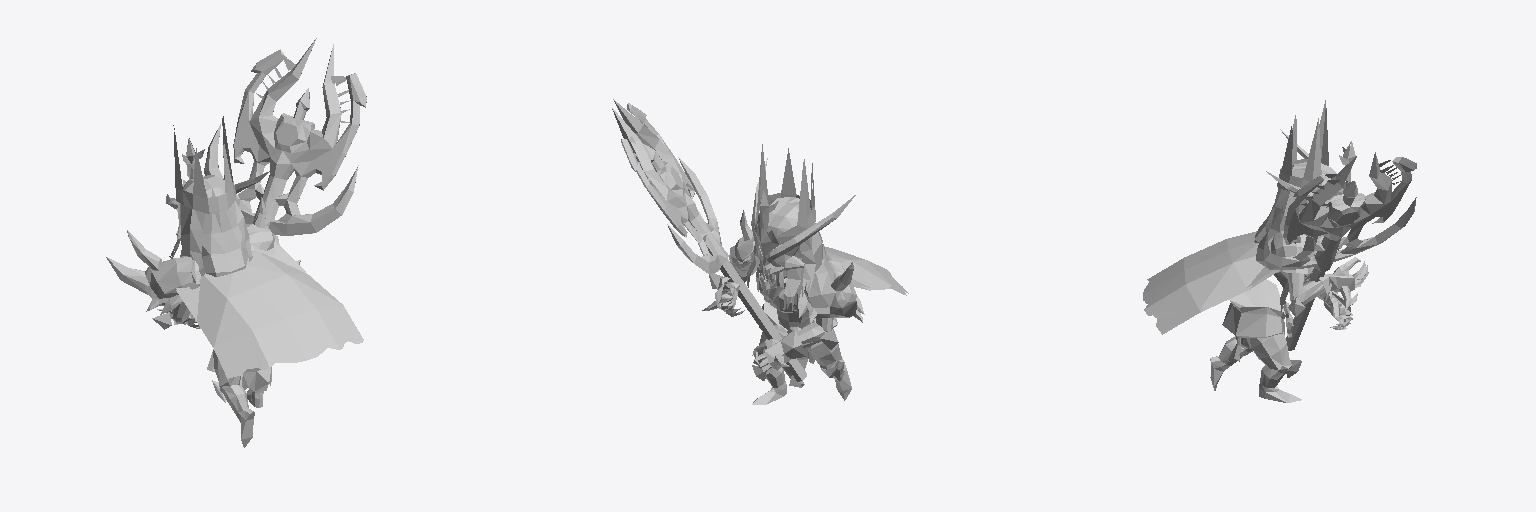
File: Run (9).obj
3 renders of one model, left to right at view 1: azimuth 30°, elevation 25°; view 2: azimuth 150°, elevation 25°; view 3: azimuth 270°, elevation 25°, orthographic.
Parts seen in each view (by area): view 1: skeleton_king_LOD120, skeleton_weapon_LOD120; view 2: skeleton_king_LOD120, skeleton_weapon_LOD120; view 3: skeleton_king_LOD120, skeleton_weapon_LOD120.
Part boxes in pixels (bbox=[...]): skeleton_king_LOD120: bbox=[106, 116, 363, 447]; skeleton_weapon_LOD120: bbox=[204, 38, 366, 372]; skeleton_king_LOD120: bbox=[702, 144, 908, 404]; skeleton_weapon_LOD120: bbox=[612, 99, 806, 381]; skeleton_king_LOD120: bbox=[1143, 100, 1368, 402]; skeleton_weapon_LOD120: bbox=[1256, 152, 1416, 350].
Bounding box in the file's own units: 4.24 × 5.33 × 4.2.